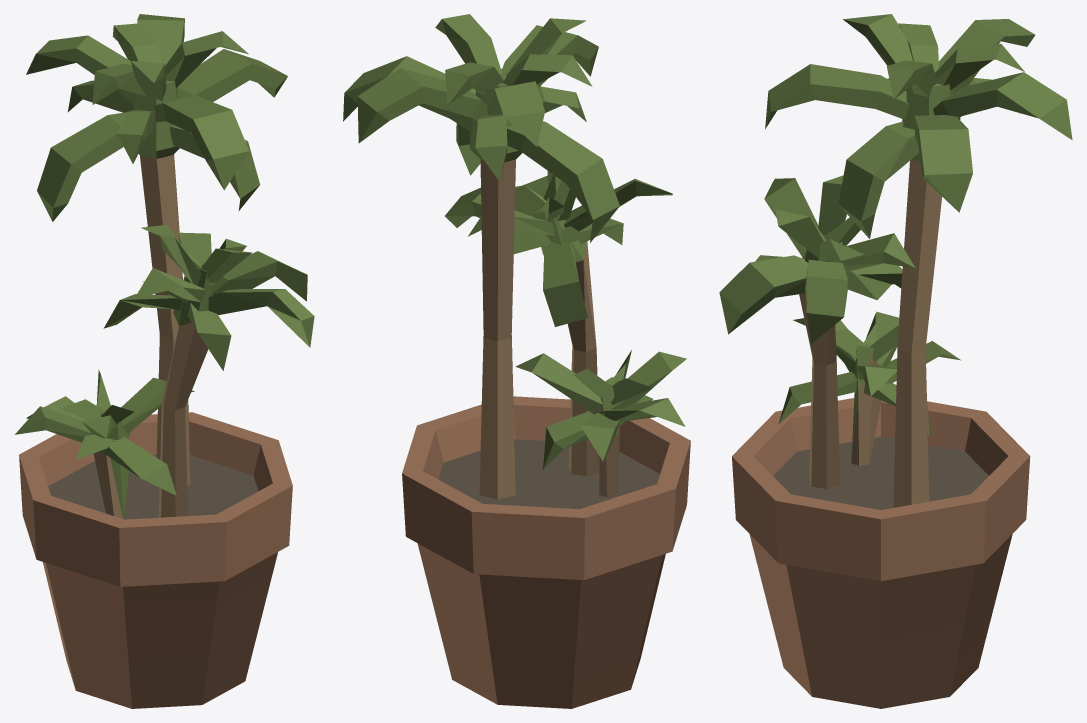
The model's file is Plant.fbx.
3 renders of one model, left to right at view 1: azimuth 30°, elevation 25°; view 2: azimuth 150°, elevation 25°; view 3: azimuth 270°, elevation 25°, orthographic. The views are drawn at different scales.
Parts seen in each view (by area): view 1: Plant; view 2: Plant; view 3: Plant.
Part boxes in pixels (x1=…): Plant: x1=14, y1=14, x2=314, y2=708; Plant: x1=343, y1=14, x2=690, y2=708; Plant: x1=719, y1=14, x2=1072, y2=708.
Bounding box in the file's own units: 71.62 × 143 × 71.19.
Materials: 1 (1 with a texture image).
